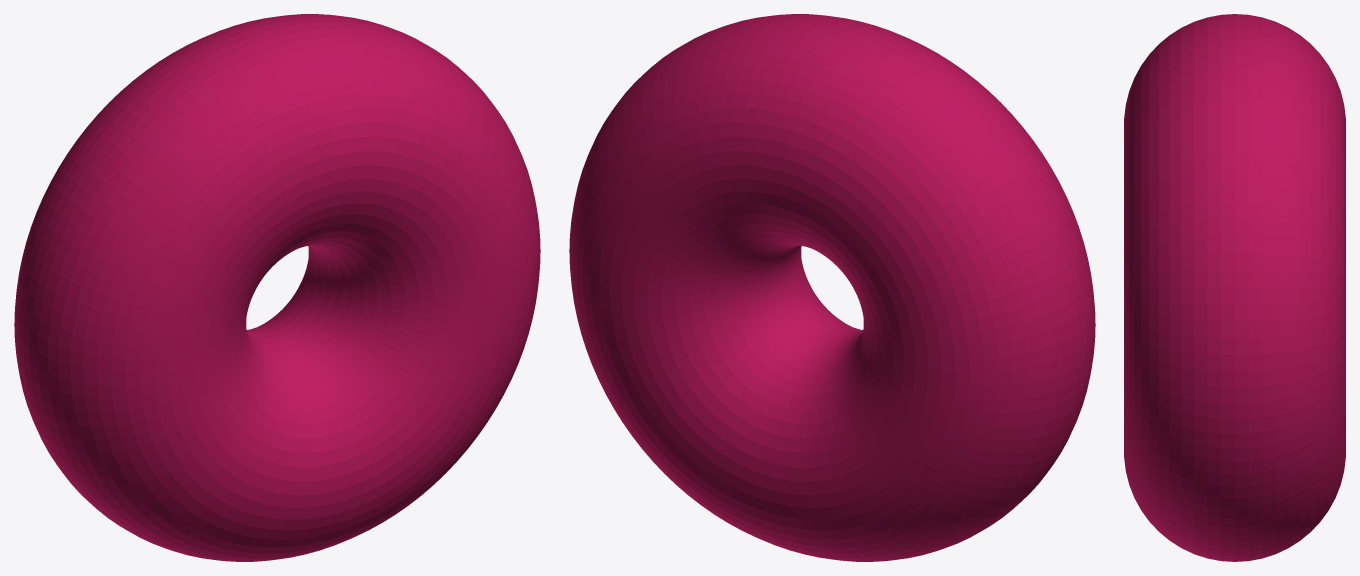
3 views of the same model, side by side, from view 1: azimuth 30°, elevation 25°; view 2: azimuth 150°, elevation 25°; view 3: azimuth 270°, elevation 25° (orthographic). The views are drawn at different scales.
Visible parts, largest first — view 1: world; view 2: world; view 3: world.
Part boxes in pixels (x1,y1,x2,y2): world: [14, 14, 540, 561]; world: [569, 14, 1095, 561]; world: [1124, 14, 1345, 561].
Size of the model in its own units: 24.67 by 24.67 by 9.98.
